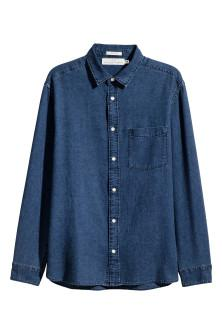teeshirt: (7, 43, 215, 293)
